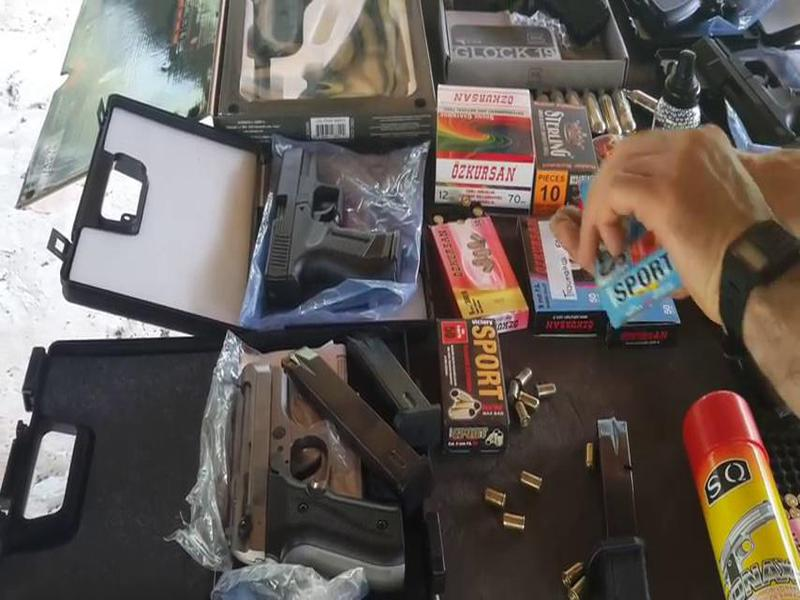Pistola: (201, 342, 416, 590), (264, 128, 405, 310)
